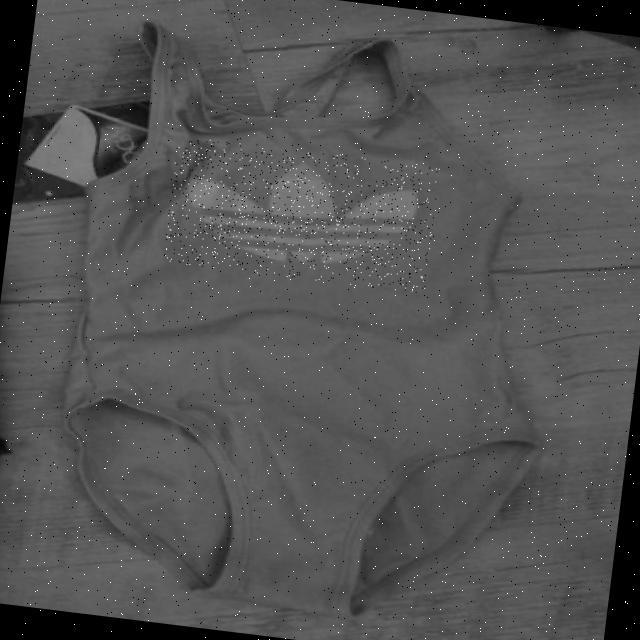Adidas: (163, 135, 440, 294)
